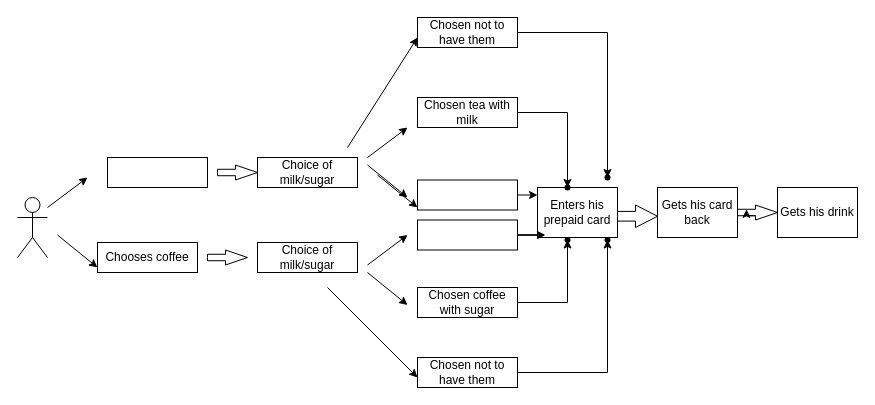
Some shapes in this 875 by 405 pixel diagram are drawn without their labels. The centre of each missing label's shape, as x and y in pixels:
"Actor" goes at point 32,227.
"Chooses tea" goes at point 157,172.
"Chosen coffee with milk" goes at point 467,234.
"Chosen tea with sugar" goes at point 467,194.
